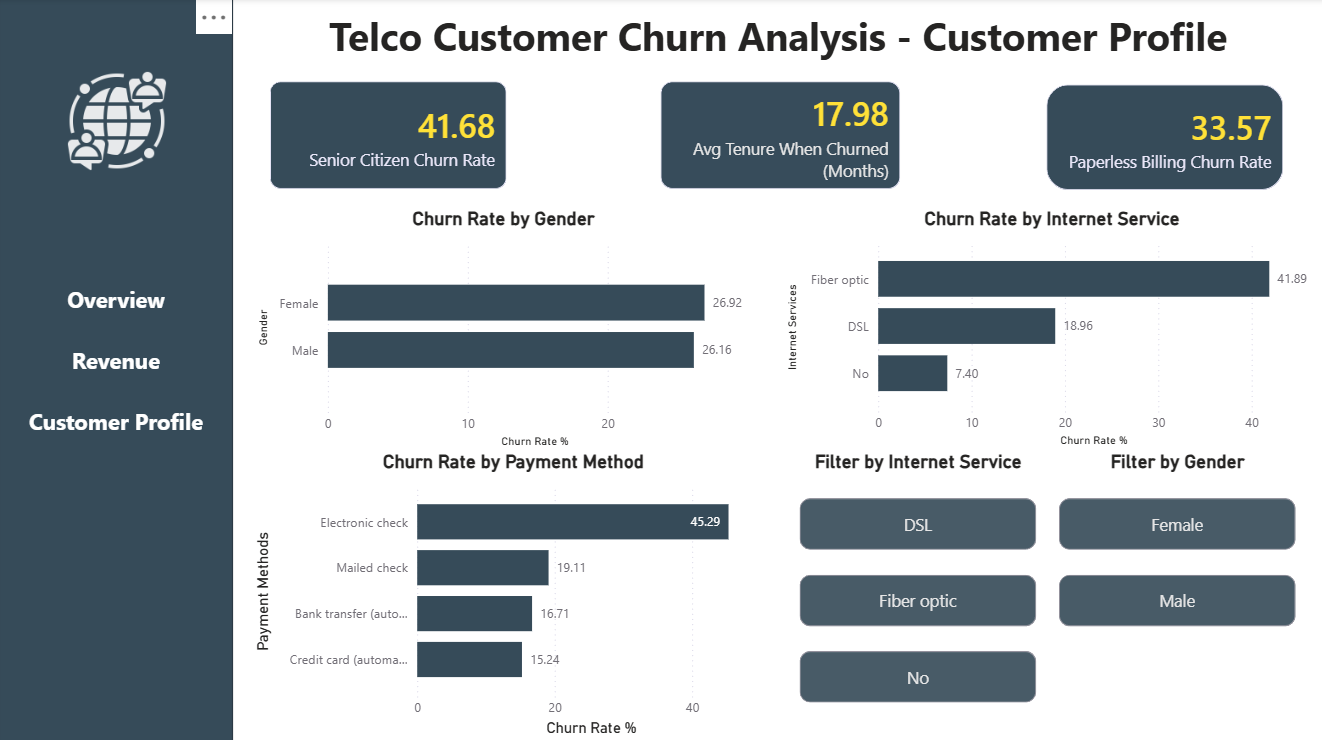

This screenshot's page, from the dashboard's own definition file:
{"tool":"powerbi","page":{"name":"Customer Profile","canvas":[1280,720],"ordinal":2},"visuals":[{"type":"cardVisual","fields":{"Data":["ChurnData.Senior Citizen Churn Rate"]},"box":[244.9,64.2,263.5,138.5],"z":0},{"type":"actionButton","box":[13.5,261.8,199.3,59.1],"z":0,"group":"g1"},{"type":"cardVisual","fields":{"Data":["ChurnData.Avg Tenure Churned"]},"box":[623.3,64.2,266.9,138.5],"z":1000},{"type":"actionButton","box":[13.5,320.9,199.3,59.1],"z":1000,"group":"g1"},{"type":"cardVisual","fields":{"Data":["ChurnData.Paperless Billing Churn Rate"]},"box":[996.6,65.9,263.5,136.8],"z":2000},{"type":"actionButton","box":[13.5,380,199.3,59.1],"z":2000,"group":"g1"},{"type":"advancedSlicerVisual","title":"Filter by Gender","fields":{"Values":["ChurnData.Gender"]},"box":[1020.3,439.2,239.9,217.9],"z":3000},{"type":"textbox","box":[226.4,0,1054.1,65.9],"z":4000},{"type":"shape","box":[0,0,226.4,719.6],"z":5000},{"type":"group","id":"g1","title":"Group 1","box":[13.5,261.8,199.3,177.4],"z":6000},{"type":"image","box":[55.7,65.9,116.6,104.7],"z":7000},{"type":"clusteredBarChart","title":"Churn Rate by Gender","fields":{"Category":["ChurnData.Gender"],"Y":["ChurnData.Churn Rate %"]},"box":[244.9,202.7,486.5,236.5],"z":7001},{"type":"clusteredBarChart","title":"Churn Rate by Internet Service","fields":{"Category":["ChurnData.Internet_Service"],"Y":["ChurnData.Churn Rate %"]},"box":[757,203,523,236],"z":7002},{"type":"clusteredBarChart","title":"Churn Rate by Payment Method","fields":{"Category":["ChurnData.Payment_Method"],"Y":["ChurnData.Churn Rate %"]},"box":[241.6,439.2,511.8,280.4],"z":7003},{"type":"advancedSlicerVisual","title":"Filter by Internet Service","fields":{"Values":["ChurnData.Internet_Service"]},"box":[770.3,439.2,239.9,280.4],"z":7004}]}

Visuals, with their boxes on the page's 1280x720 design canvas (x1, y1, x2, y2). These are canvas units, not pixel positions in the 1322x740 screenshot, which may show the page scaled, cropped or inside an application window:
cardVisual - ChurnData.Senior Citizen Churn Rate: bbox=[245, 64, 508, 203]
actionButton: bbox=[14, 262, 213, 321]
cardVisual - ChurnData.Avg Tenure Churned: bbox=[623, 64, 890, 203]
actionButton: bbox=[14, 321, 213, 380]
cardVisual - ChurnData.Paperless Billing Churn Rate: bbox=[997, 66, 1260, 203]
actionButton: bbox=[14, 380, 213, 439]
"Filter by Gender" advancedSlicerVisual: bbox=[1020, 439, 1260, 657]
textbox: bbox=[226, 0, 1280, 66]
shape: bbox=[0, 0, 226, 720]
"Group 1" group: bbox=[14, 262, 213, 439]
image: bbox=[56, 66, 172, 171]
"Churn Rate by Gender" clusteredBarChart: bbox=[245, 203, 731, 439]
"Churn Rate by Internet Service" clusteredBarChart: bbox=[757, 203, 1280, 439]
"Churn Rate by Payment Method" clusteredBarChart: bbox=[242, 439, 753, 720]
"Filter by Internet Service" advancedSlicerVisual: bbox=[770, 439, 1010, 720]
